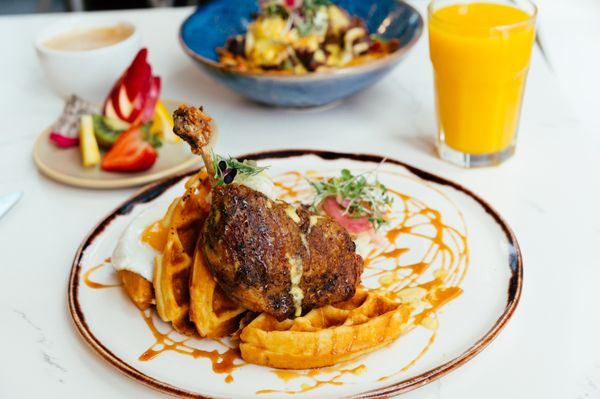pizza: (35, 19, 140, 103)
sushi: (177, 1, 427, 108)
